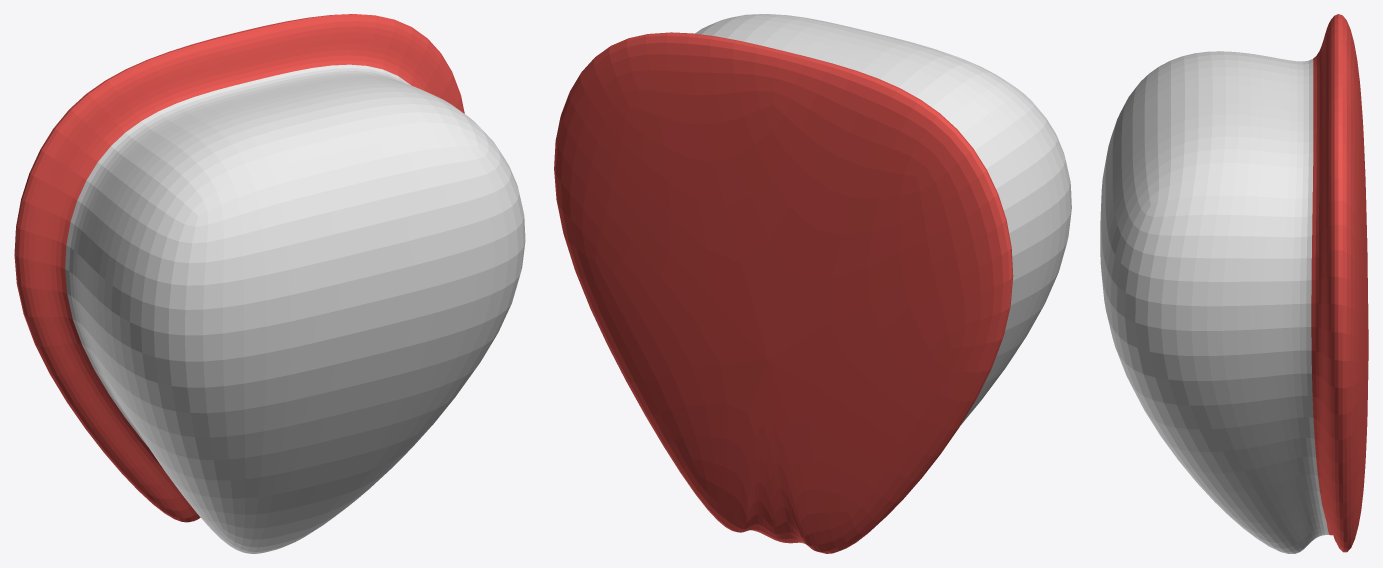
The model's file is Frutiger_Strawberry.fbx.
3 renders of one model, left to right at view 1: azimuth 30°, elevation 25°; view 2: azimuth 150°, elevation 25°; view 3: azimuth 270°, elevation 25°, orthographic. The views are drawn at different scales.
Visible parts, largest first — view 1: Cube.020; view 2: Cube.020; view 3: Cube.020.
Part boxes in pixels (bbox=[...]): Cube.020: bbox=[14, 14, 525, 553]; Cube.020: bbox=[554, 14, 1071, 553]; Cube.020: bbox=[1100, 14, 1368, 553].
Size of the model in its own units: 191 by 203 by 102.
